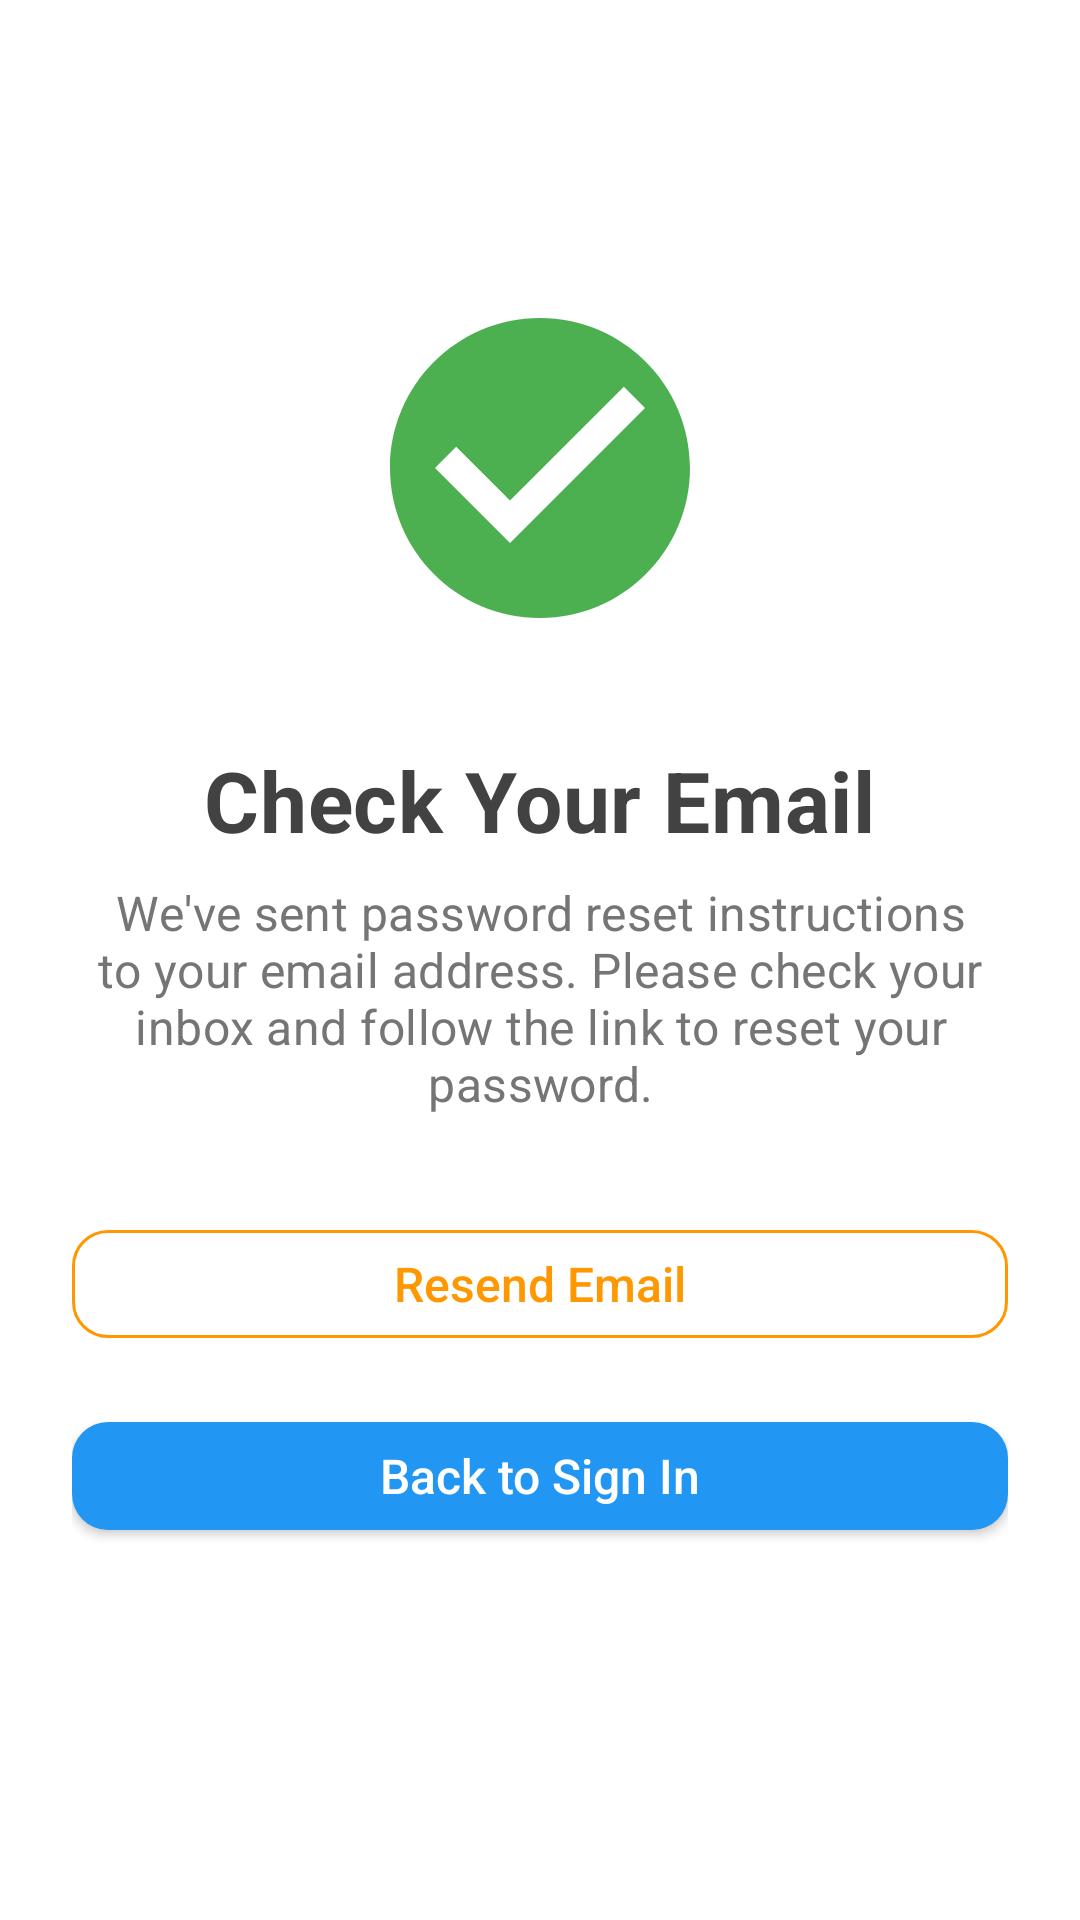

Icon click points for this 1080 x 1920 phone screenshot, format point (x, y):
check circle: point (540, 468)
